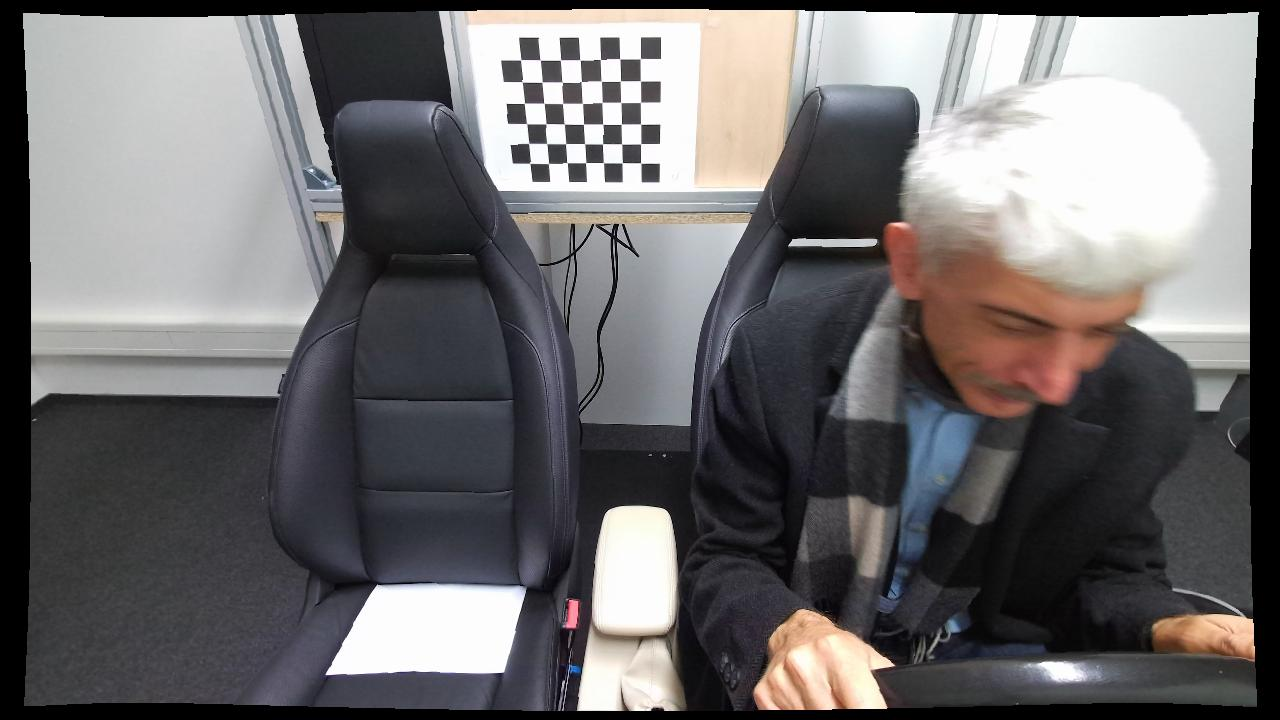Distracted: (679, 71, 1216, 712)
